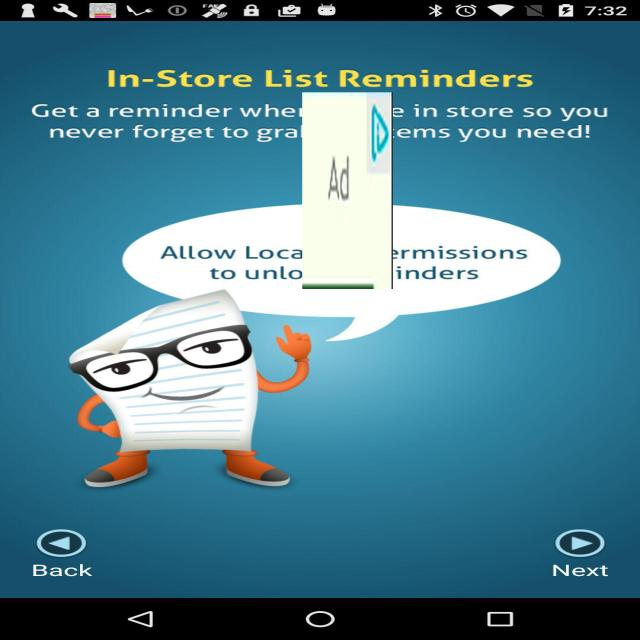sneaking: (302, 92, 393, 289)
